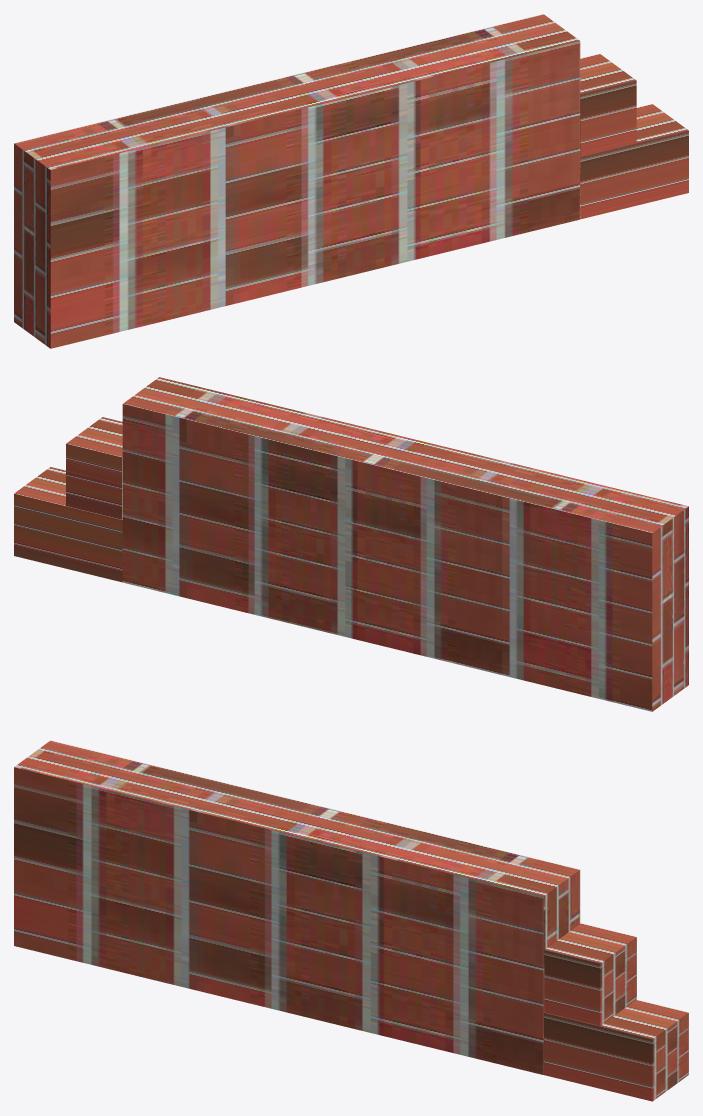
The model's file is block.fbx.
3 views of the same model, one above another, from view 1: azimuth 30°, elevation 25°; view 2: azimuth 150°, elevation 25°; view 3: azimuth 330°, elevation 25° (orthographic).
Visible parts, largest first — view 1: Cube, Cube.001; view 2: Cube, Cube.001; view 3: Cube, Cube.001.
Part boxes in pixels (x1,y1,x2,y2): Cube: [14, 14, 580, 348]; Cube.001: [580, 54, 688, 219]; Cube: [122, 377, 688, 711]; Cube.001: [14, 417, 122, 582]; Cube: [14, 740, 580, 1074]; Cube.001: [544, 923, 688, 1101].
Size of the model in its own units: 747 by 200 by 74.41.
